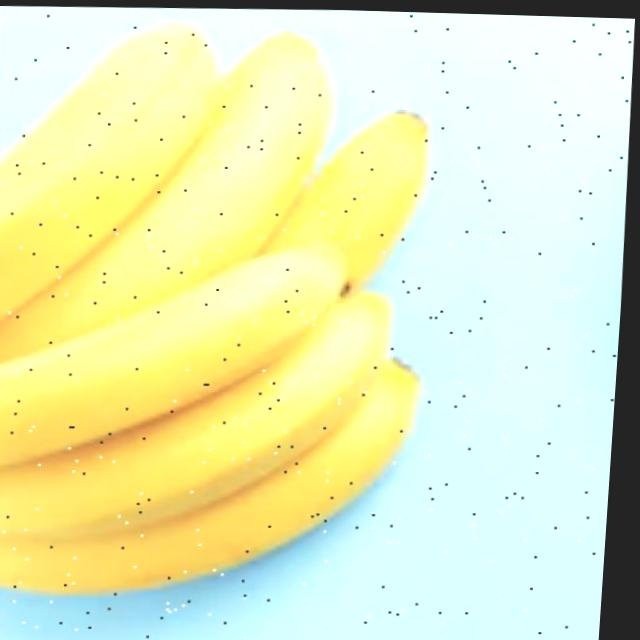Banana: (0, 10, 447, 602)
